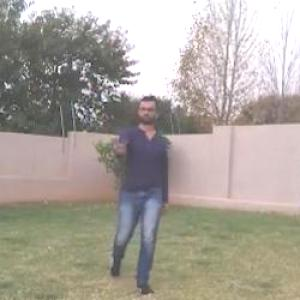takeoff-hand: (103, 131, 131, 164)
